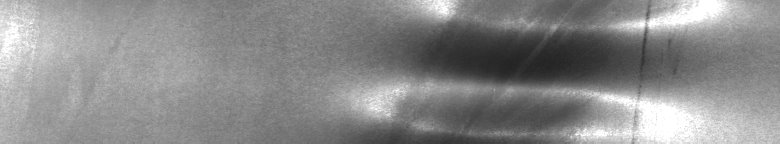ke: (508, 11, 656, 100)
